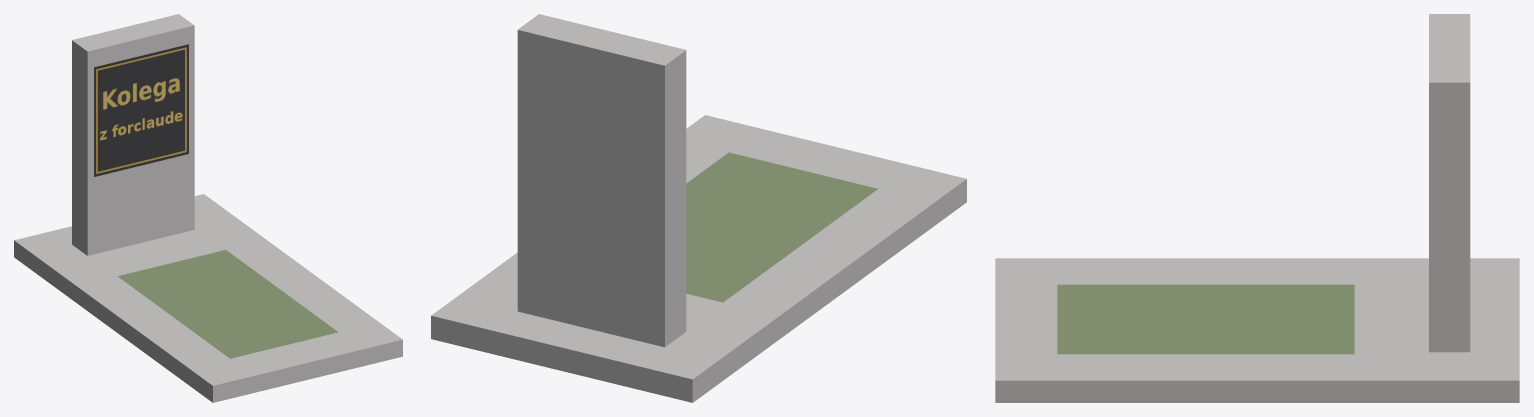
Rendered from hrob_kolega_forclaude.glb.
3 renders of one model, left to right at view 1: azimuth 30°, elevation 25°; view 2: azimuth 150°, elevation 25°; view 3: azimuth 270°, elevation 25°, orthographic. The views are drawn at different scales.
Parts seen in each view (by area): view 1: hrob; view 2: hrob; view 3: hrob.
Part boxes in pixels (x1,y1,x2,y2): hrob: [14, 14, 402, 402]; hrob: [431, 14, 966, 402]; hrob: [995, 14, 1519, 402].
Size of the model in its own units: 1.05 by 1.17 by 1.9.
4 materials, 1 textured.
